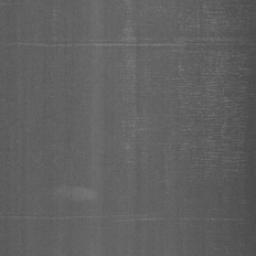Waist folding: (0, 35, 256, 63), (190, 95, 256, 117), (187, 4, 235, 21), (0, 215, 83, 221), (117, 217, 185, 223), (204, 135, 231, 146), (217, 66, 256, 72), (210, 216, 236, 222)
